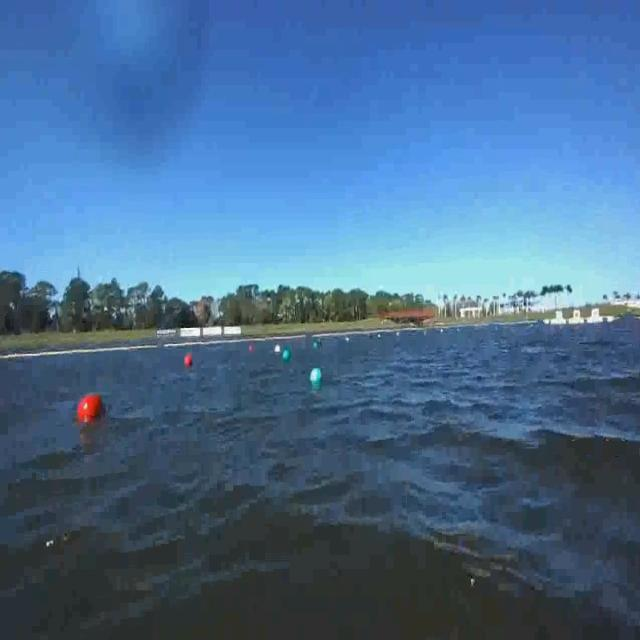green-buoy: (311, 367, 323, 386), (282, 350, 290, 362)
red-buoy: (78, 396, 104, 423), (184, 353, 193, 368)
